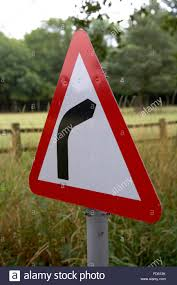Bend_to_right: (27, 26, 165, 225)
